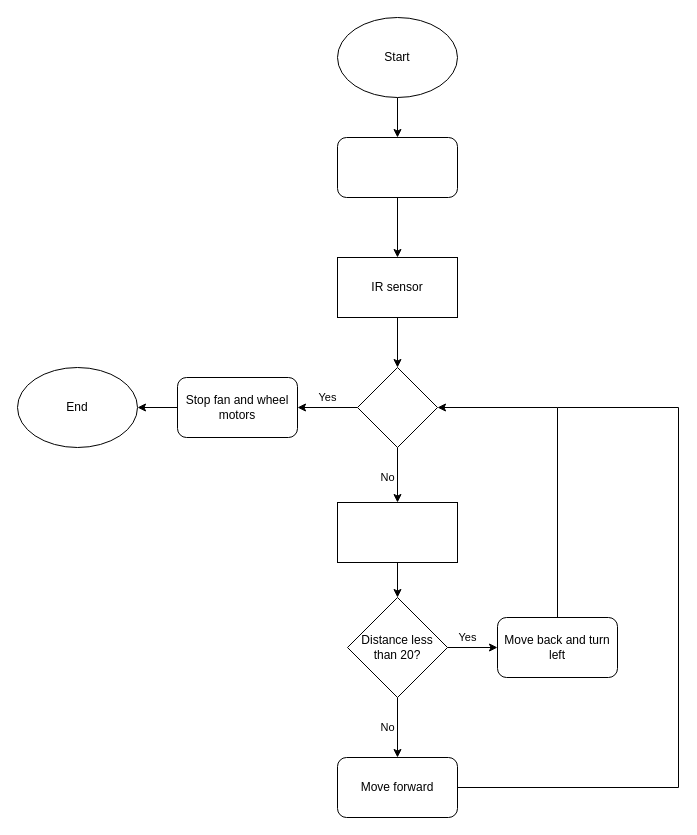
This 697x835 diagram has some shape labels left out. Here are the shapes that lost their labels. From the top down, the box of each, then its label:
(336, 136, 458, 198): PWM move servo motor and start fan
(356, 366, 438, 448): Return 0?
(336, 502, 458, 562): Ultrasonic Range Finder
